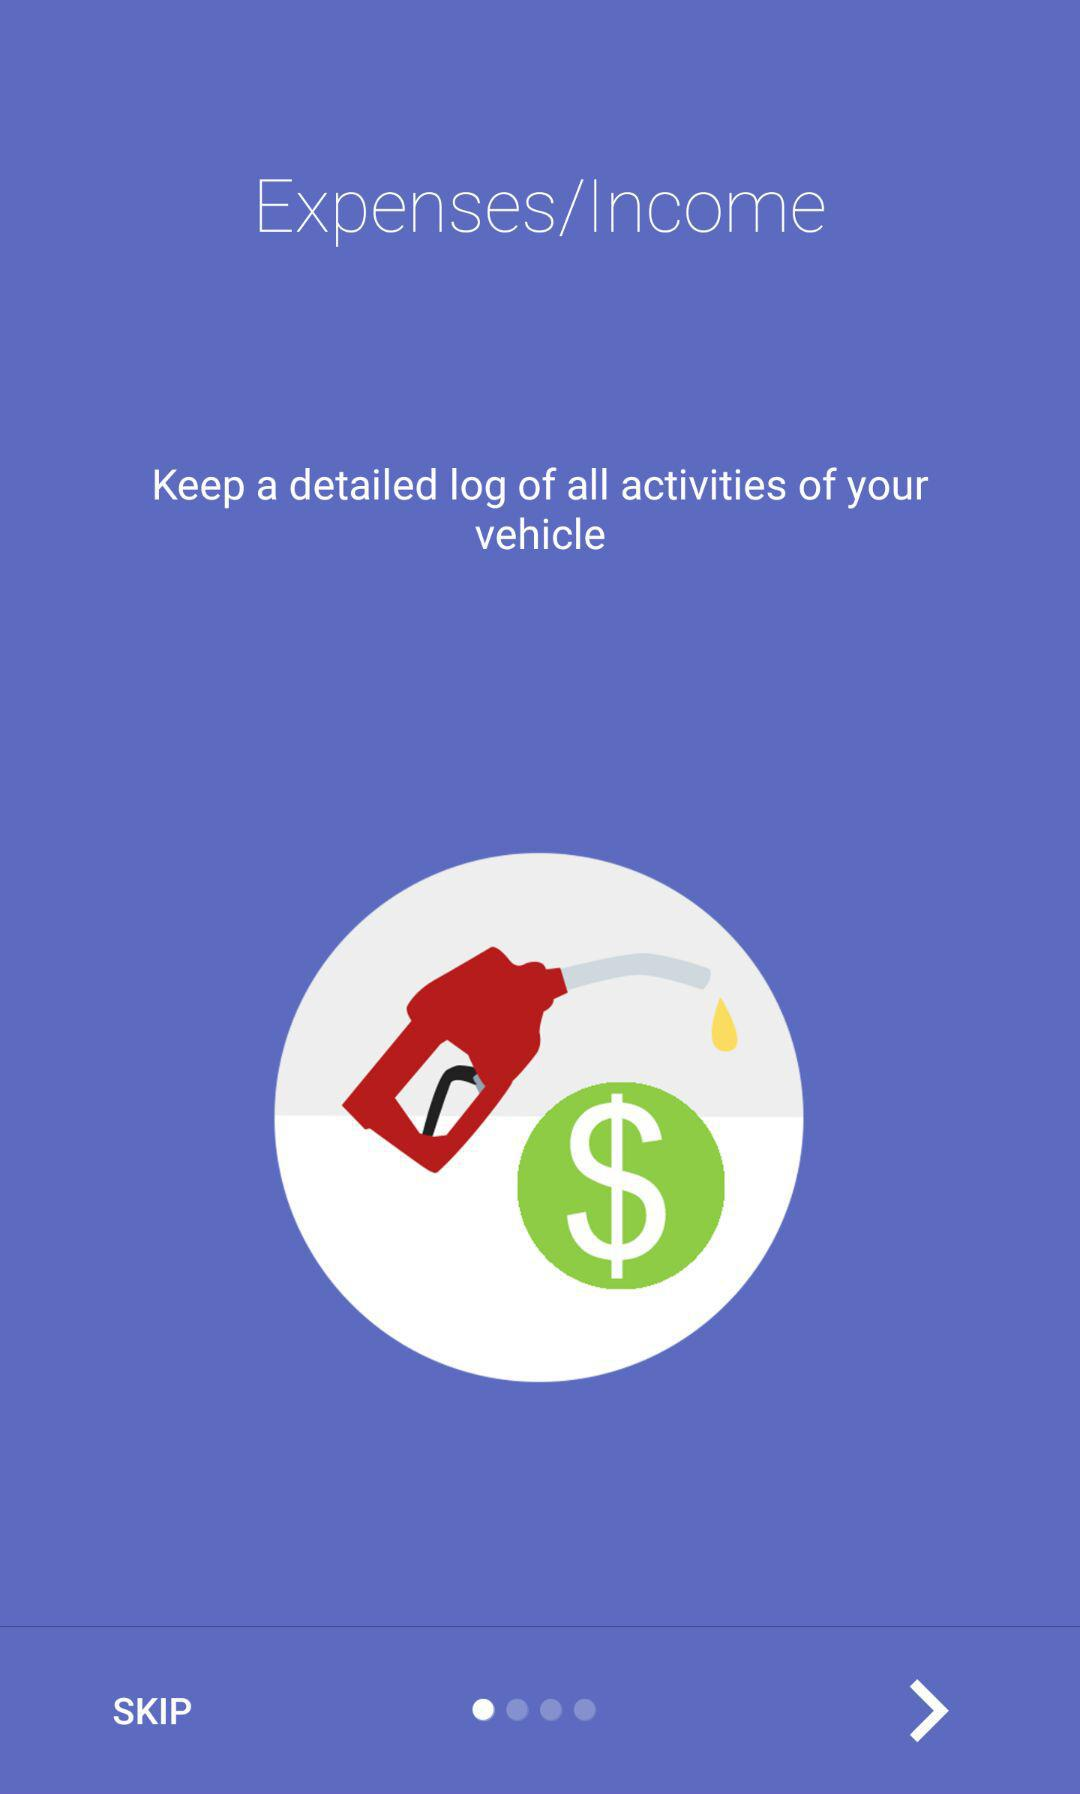Icon: (906, 1677, 951, 1743)
Image: (273, 852, 805, 1384)
PageIndicator: (471, 1697, 598, 1724)
Text: (152, 466, 930, 552), (258, 178, 826, 249), (113, 1697, 193, 1726)
